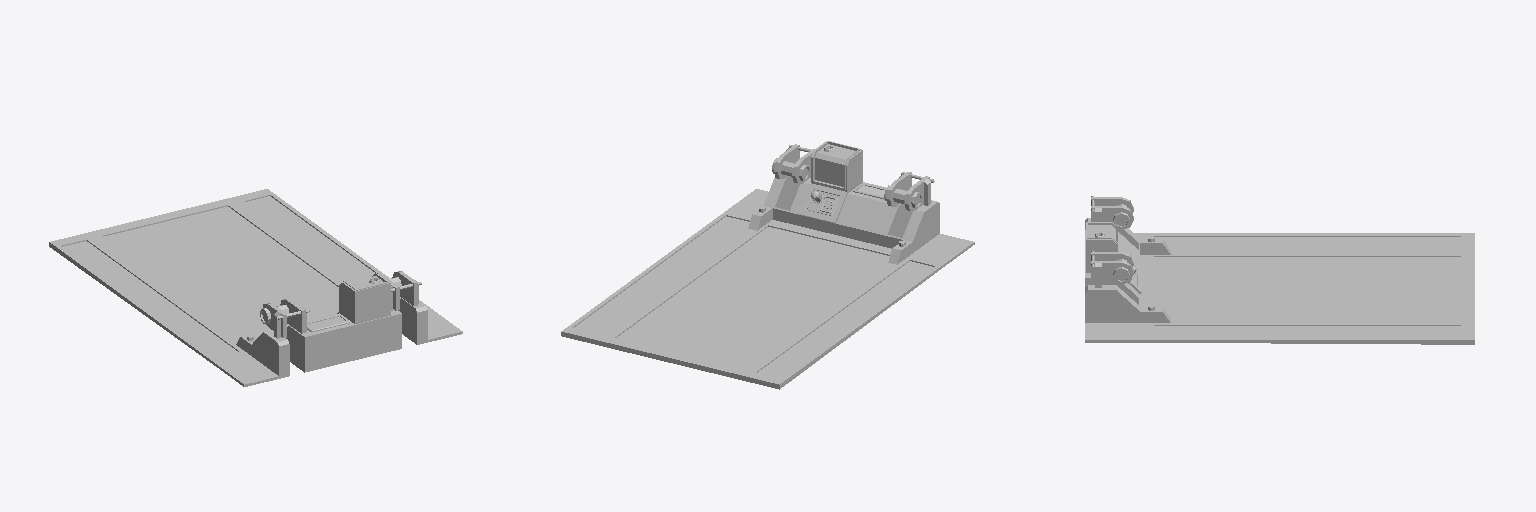
Rendered from ElevatorPlatform.obj.
The picture shows the model from 3 angles: view 1: azimuth 30°, elevation 25°; view 2: azimuth 150°, elevation 25°; view 3: azimuth 270°, elevation 25°; orthographic projection.
Parts seen in each view (by area): view 1: ElevatorPlatform_Cube.002; view 2: ElevatorPlatform_Cube.002; view 3: ElevatorPlatform_Cube.002.
Part boxes in pixels (x1,y1,x2,y2): ElevatorPlatform_Cube.002: (49, 189, 462, 386); ElevatorPlatform_Cube.002: (561, 141, 974, 389); ElevatorPlatform_Cube.002: (1085, 196, 1474, 344).
Size of the model in its own units: 3.5 by 1.09 by 5.42.